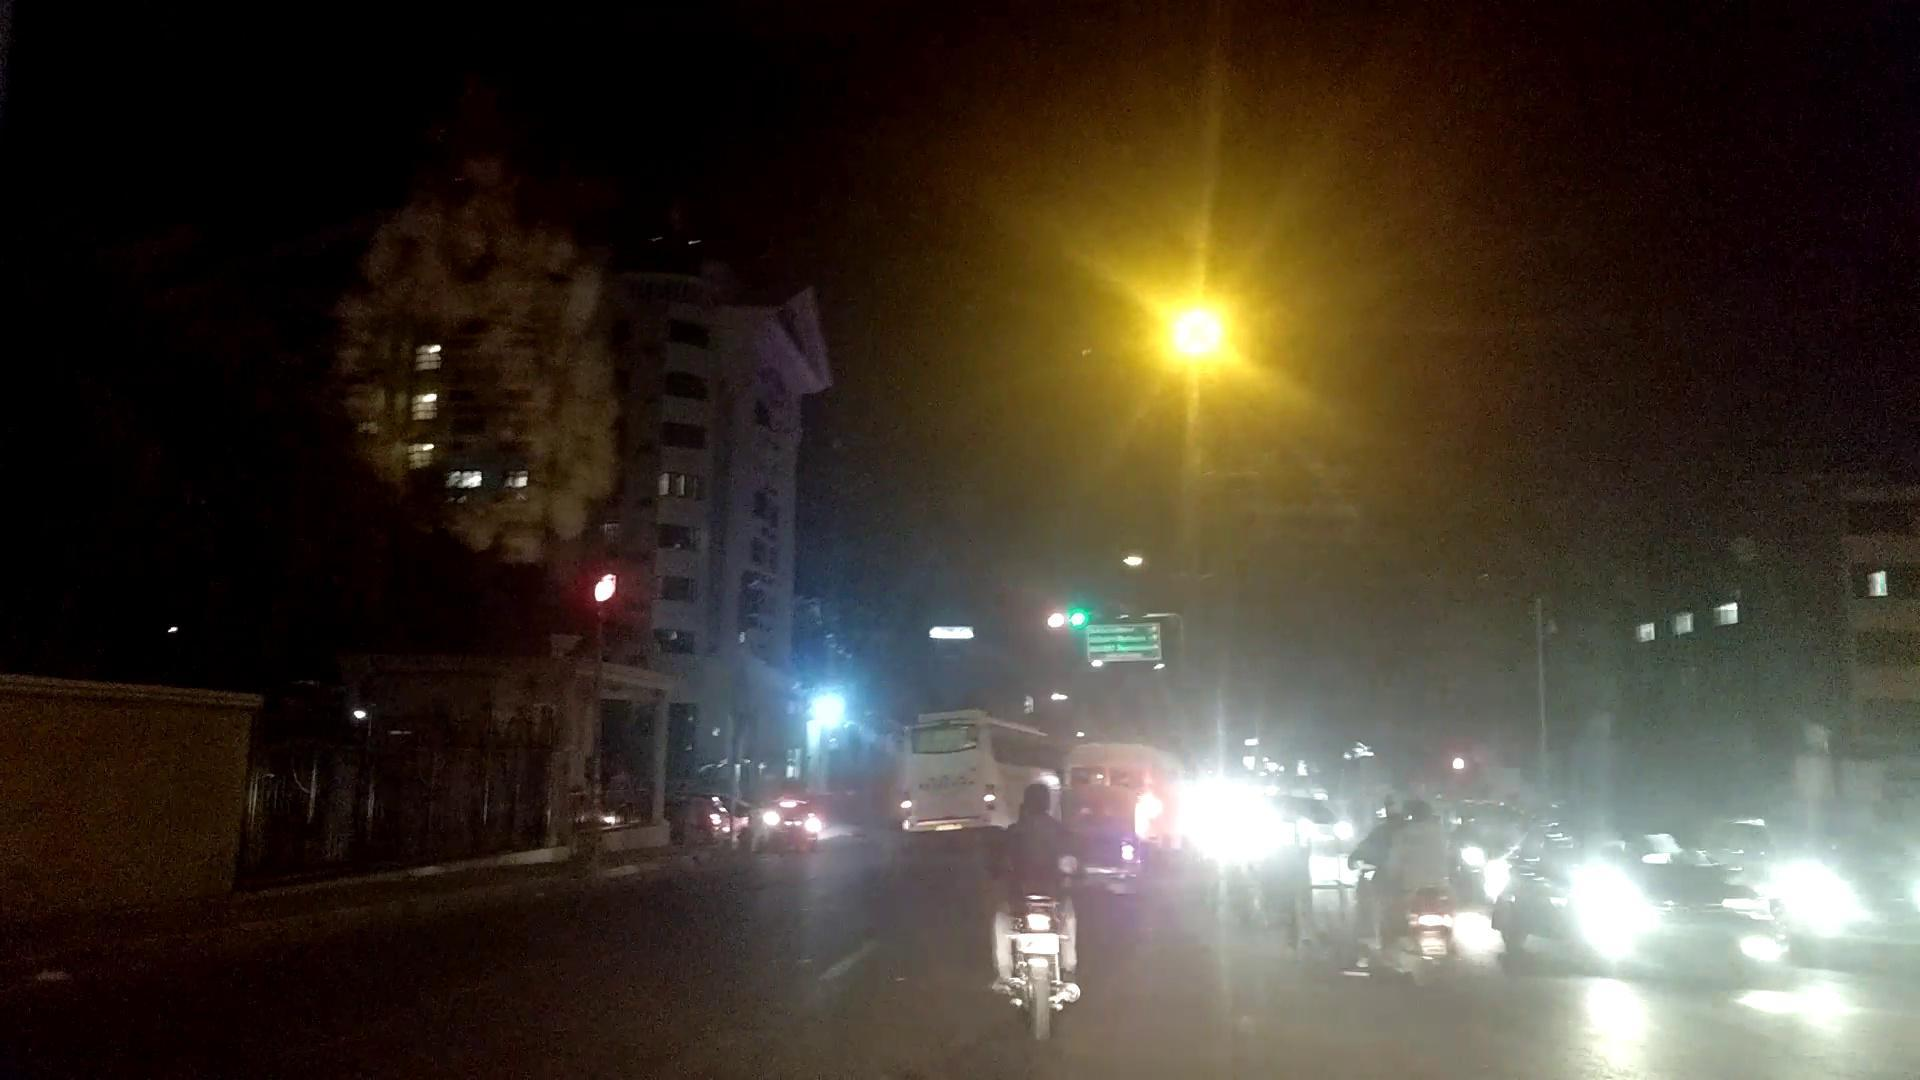on: (1040, 0, 1255, 459)
